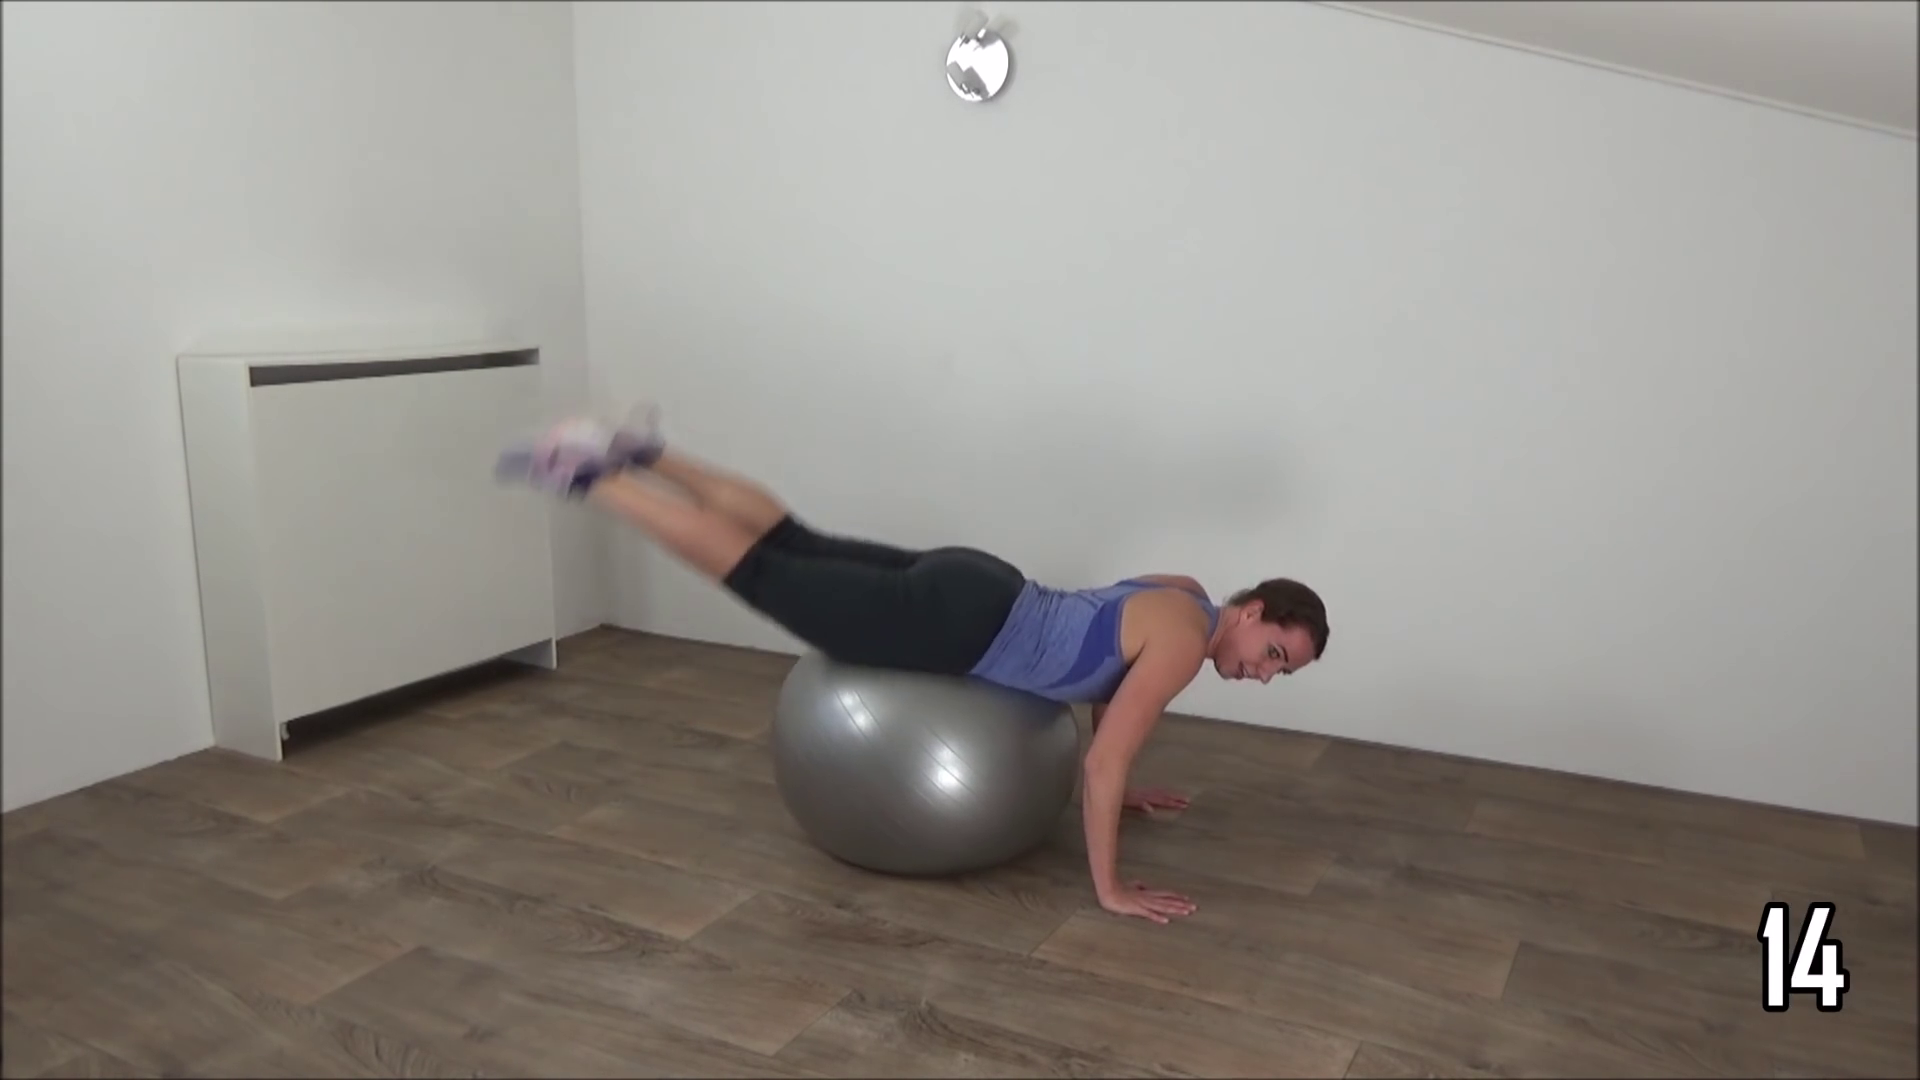yogaball: (754, 624, 1097, 899)
